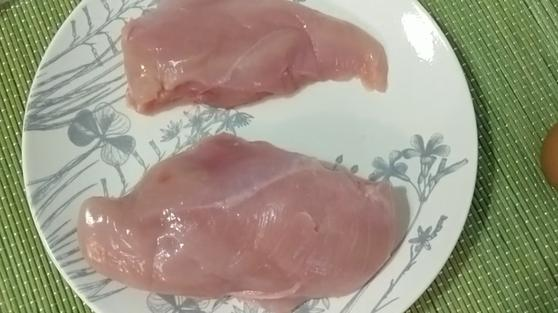chicken_fillet: (79, 131, 414, 299), (121, 1, 389, 110)
